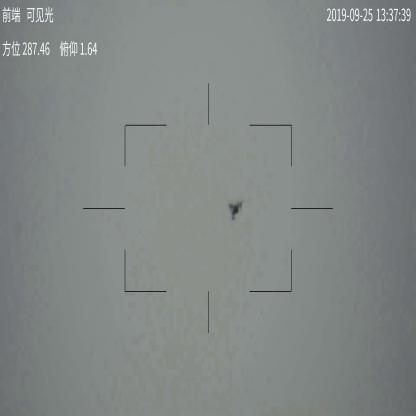uav: (225, 198, 246, 226)
